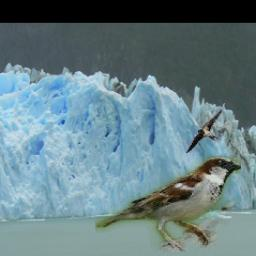Sparrow: (95, 156, 241, 252)
Swallow: (185, 109, 222, 154)
